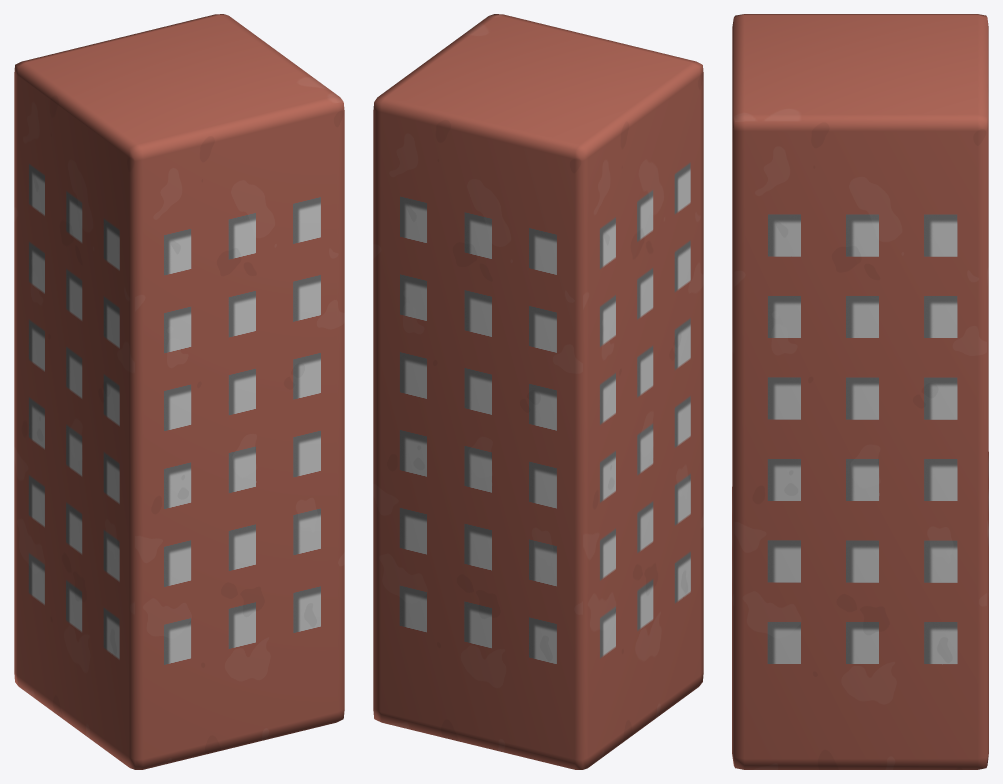
File: gedung3.fbx
The picture shows the model from 3 angles, left to right: view 1: azimuth 30°, elevation 25°; view 2: azimuth 150°, elevation 25°; view 3: azimuth 270°, elevation 25°; orthographic projection. The views are drawn at different scales.
Visible parts, largest first — view 1: Gedung3; view 2: Gedung3; view 3: Gedung3.
Part boxes in pixels (box(x1,y1,x2,y2)): Gedung3: box(14, 14, 344, 769); Gedung3: box(373, 14, 703, 769); Gedung3: box(732, 14, 988, 769).
Size of the model in its own units: 2396 by 6721 by 2394.
Materials: 1 (1 with a texture image).
